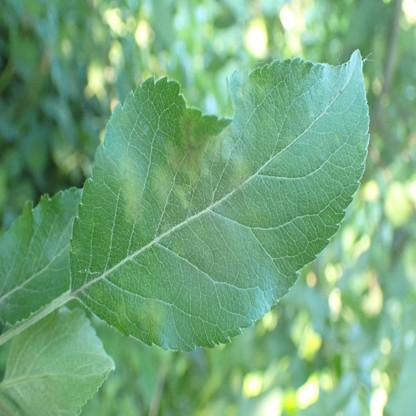scab: (165, 111, 211, 182), (116, 158, 140, 221), (138, 302, 165, 337), (228, 155, 251, 191), (150, 166, 171, 204), (211, 122, 232, 156), (175, 185, 187, 211), (238, 76, 246, 98)
